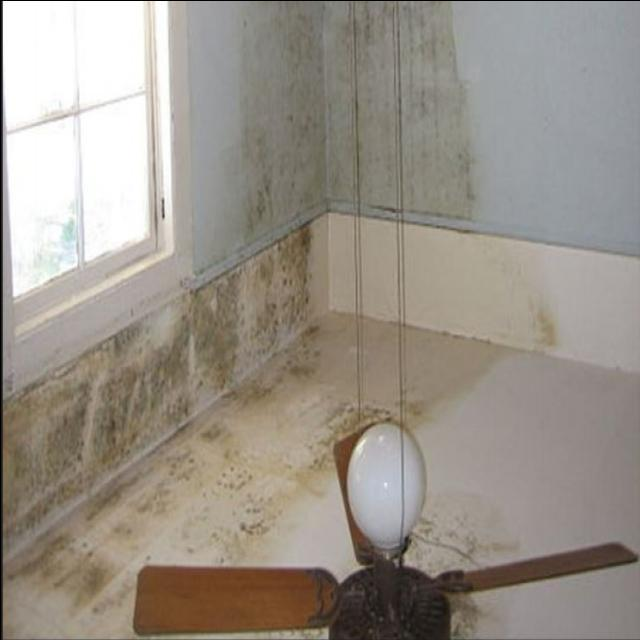leak: (6, 304, 506, 631), (233, 0, 471, 234), (315, 218, 555, 356), (404, 484, 525, 636), (185, 229, 315, 303)
